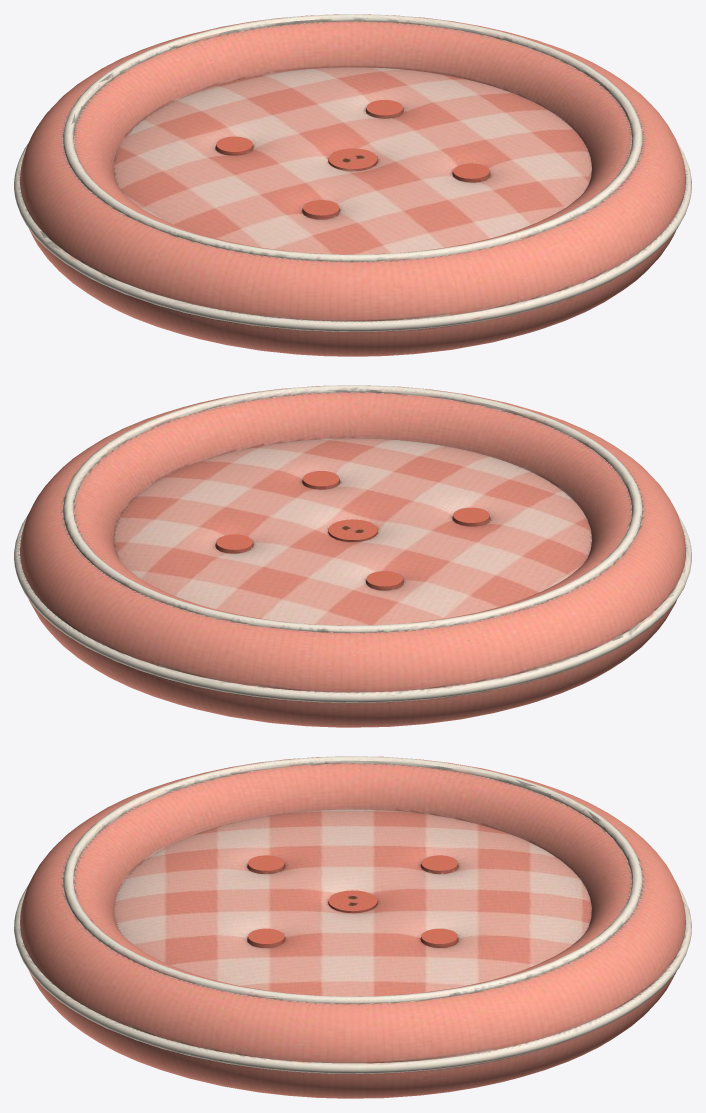
The model's file is cushion.glb.
The picture shows the model from 3 angles, top to bottom: view 1: azimuth 30°, elevation 25°; view 2: azimuth 150°, elevation 25°; view 3: azimuth 270°, elevation 25°; orthographic projection.
Parts seen in each view (by area): view 1: cushion; view 2: cushion; view 3: cushion.
Part boxes in pixels (x1,y1,x2,y2): cushion: (14,14,691,356); cushion: (14,385,691,727); cushion: (14,756,691,1098).
Bounding box in the file's own units: 1.11 × 0.1706 × 1.11.
Materials: 1 (1 with a texture image).
